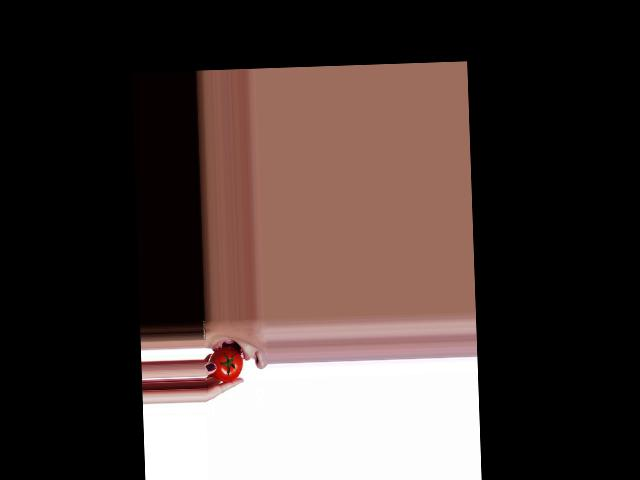tomato: (207, 347, 243, 383)
